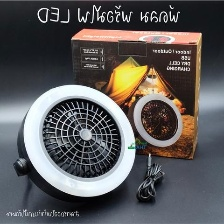book: (66, 23, 206, 164)
